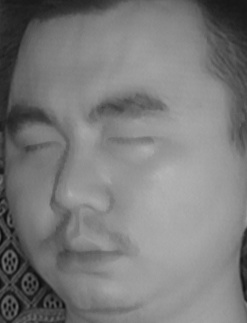blink: (104, 122, 156, 157), (18, 129, 64, 164)
mouth: (43, 221, 134, 279)
